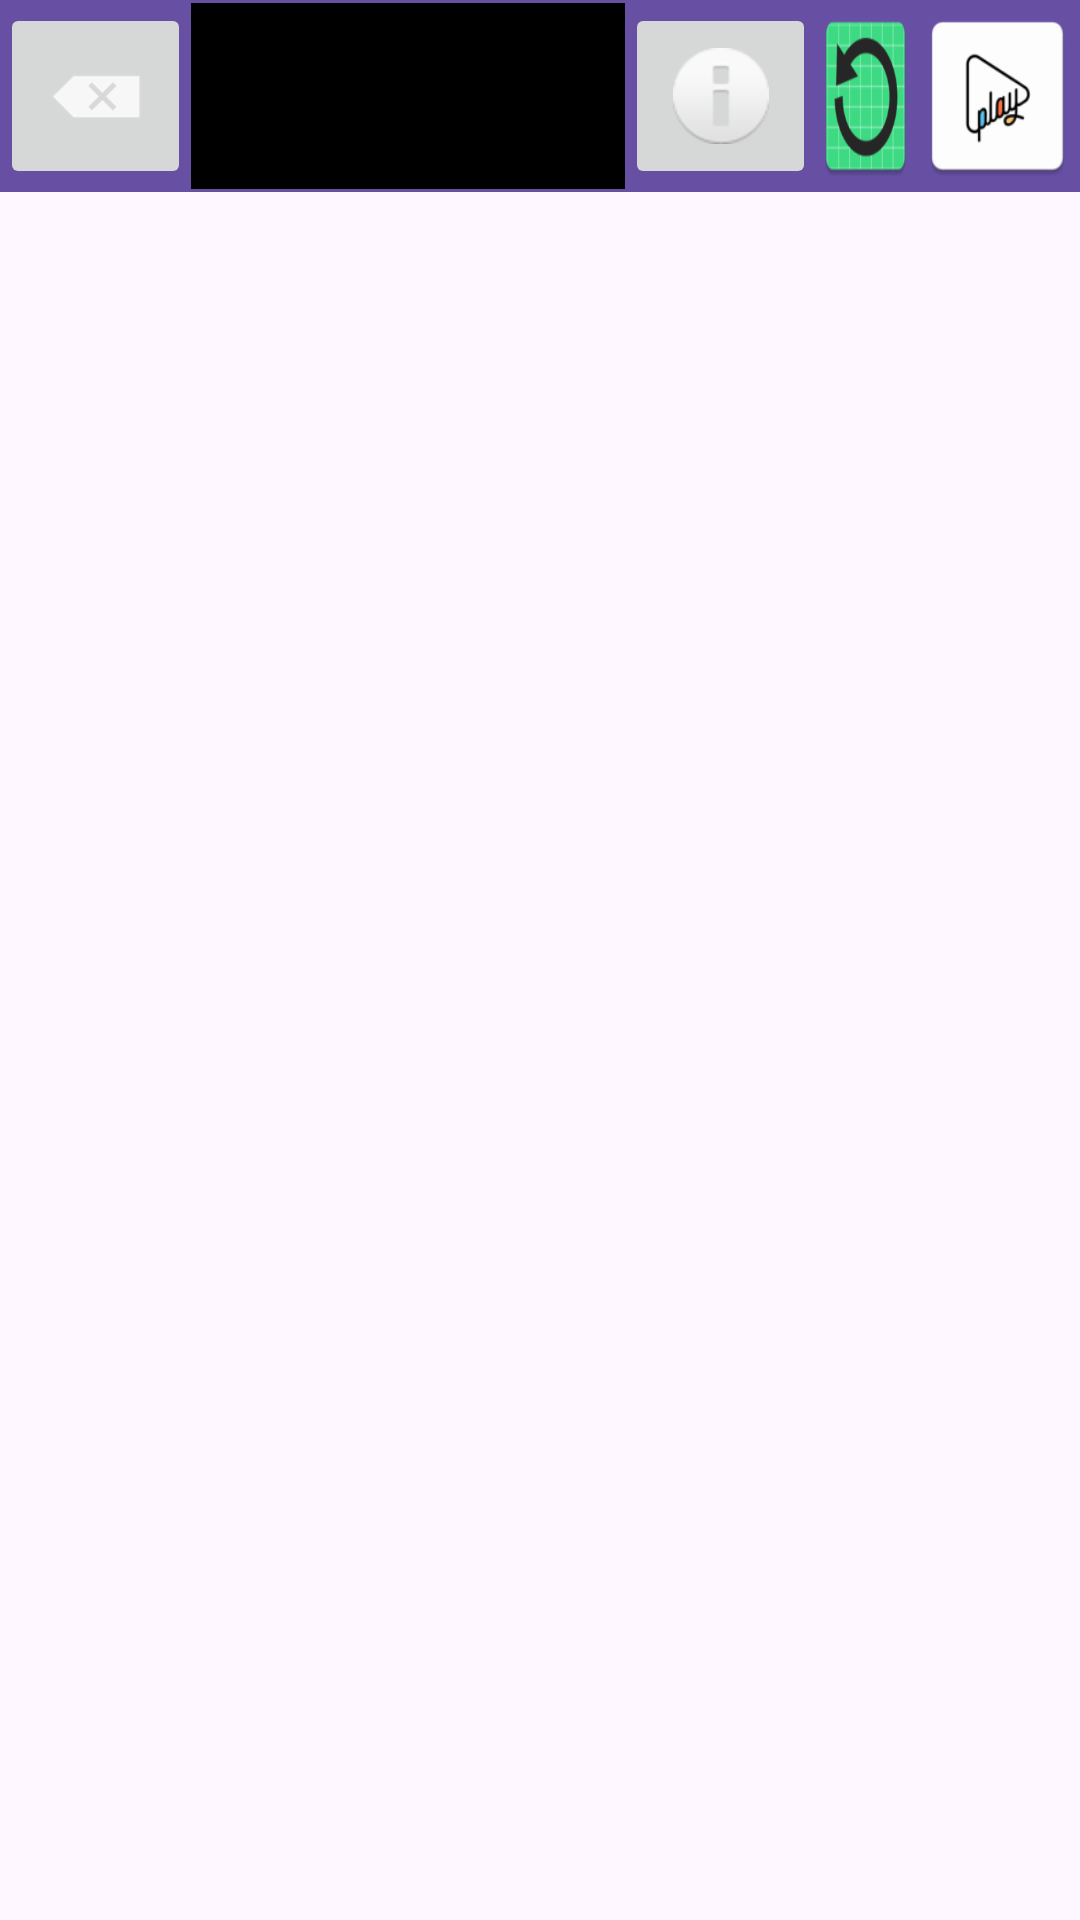

Where icons sit on this 1080w x 1920h app screen, as [x1, y1, x2, y2]:
info: [637, 21, 804, 171]
restart game: [826, 22, 905, 173]
Запустить уровень: [932, 22, 1063, 173]
